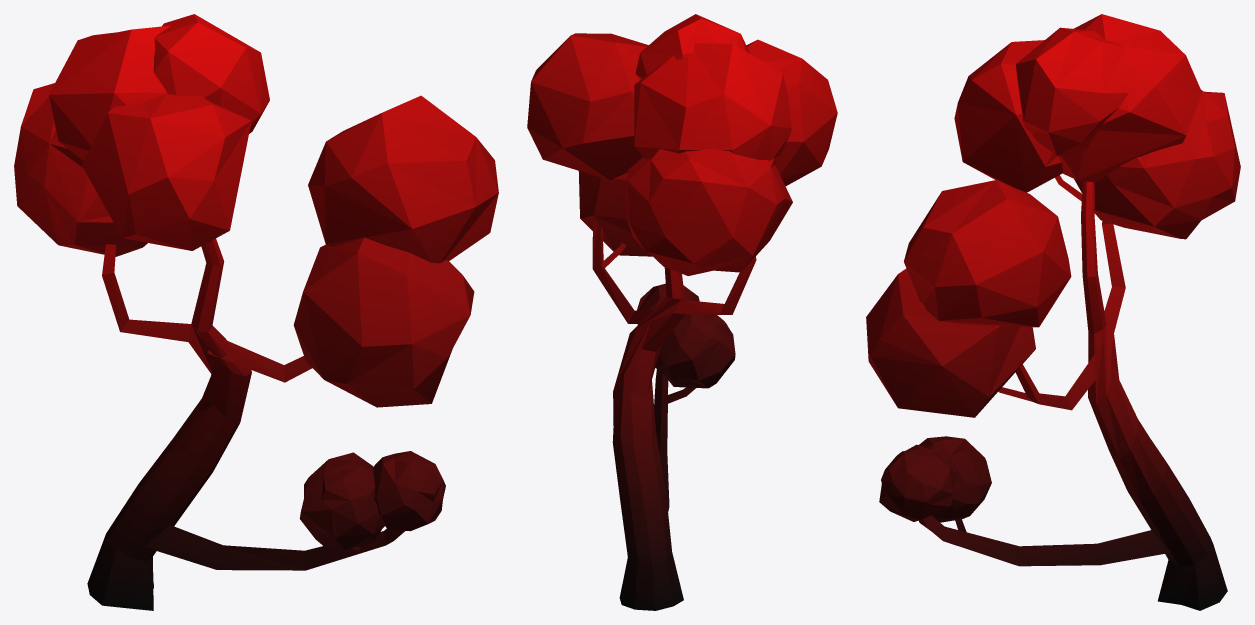
Rendered from TreeBent01.fbx.
3 renders of one model, left to right at view 1: azimuth 30°, elevation 25°; view 2: azimuth 150°, elevation 25°; view 3: azimuth 270°, elevation 25°, orthographic. The views are drawn at different scales.
Visible parts, largest first — view 1: TreeBent01_LOD0; view 2: TreeBent01_LOD0; view 3: TreeBent01_LOD0.
Part boxes in pixels (bbox=[...]): TreeBent01_LOD0: bbox=[14, 14, 498, 610]; TreeBent01_LOD0: bbox=[527, 14, 837, 610]; TreeBent01_LOD0: bbox=[866, 14, 1240, 610].
Size of what is drawn, in the model's own units: 766 by 1224 by 731.
